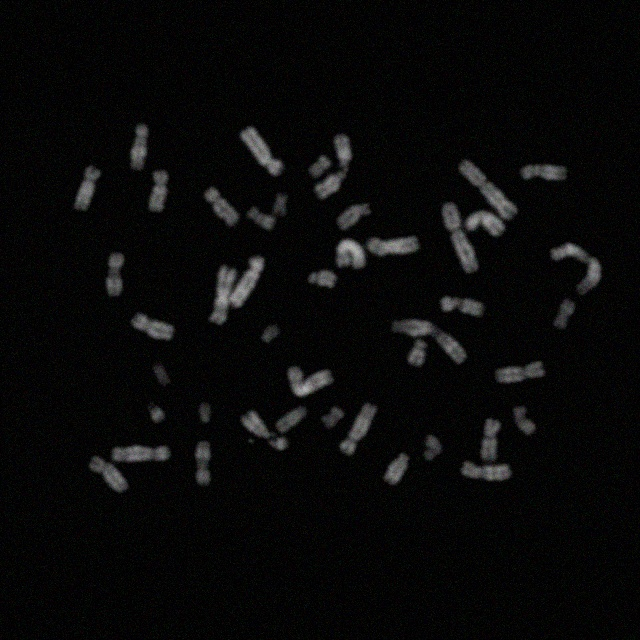chromosome: (390, 316, 468, 364), (460, 160, 518, 220), (440, 202, 478, 276), (314, 134, 354, 202), (550, 243, 602, 294), (239, 128, 285, 176), (339, 404, 378, 458), (240, 410, 288, 452), (208, 264, 238, 326), (230, 258, 264, 308), (88, 455, 128, 493), (288, 366, 334, 398), (204, 184, 238, 226), (131, 310, 175, 342), (73, 167, 101, 213), (494, 360, 546, 384), (465, 210, 505, 238), (110, 446, 172, 464), (521, 163, 573, 184), (441, 296, 485, 320), (130, 123, 152, 171), (193, 440, 214, 490), (461, 461, 511, 482), (334, 238, 366, 270), (146, 170, 170, 212), (478, 419, 502, 461), (339, 200, 371, 230), (367, 239, 419, 257), (383, 451, 409, 487), (105, 252, 125, 296), (552, 300, 580, 330), (276, 406, 306, 432), (244, 206, 276, 230), (513, 405, 537, 435), (408, 340, 428, 370), (308, 153, 329, 179), (322, 406, 342, 432), (423, 435, 443, 461), (310, 270, 338, 288), (196, 400, 214, 426), (274, 192, 290, 220), (146, 406, 168, 424), (262, 326, 280, 344)
